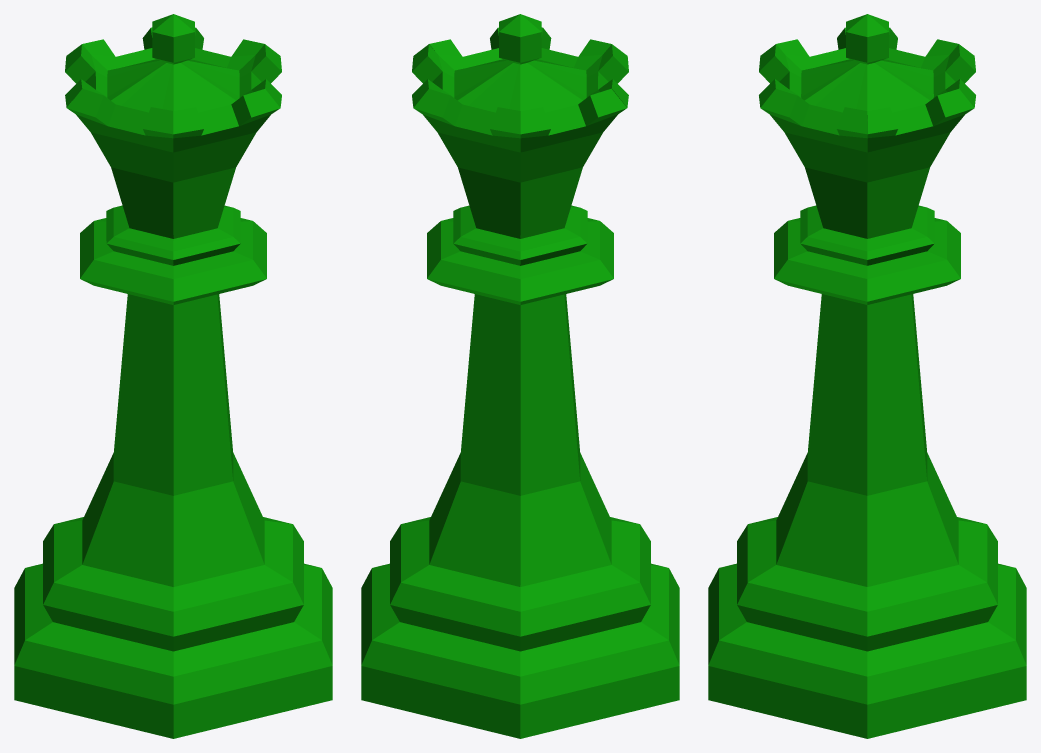
File: green-queen.glb
3 renders of one model, left to right at view 1: azimuth 30°, elevation 25°; view 2: azimuth 150°, elevation 25°; view 3: azimuth 270°, elevation 25°, orthographic.
Visible parts, largest first — view 1: Queen; view 2: Queen; view 3: Queen.
Part boxes in pixels (x1,y1,x2,y2): Queen: (14, 14, 332, 738); Queen: (361, 14, 679, 738); Queen: (708, 14, 1026, 738).
Size of the model in its own units: 0.8763 by 1.7 by 0.7589.
